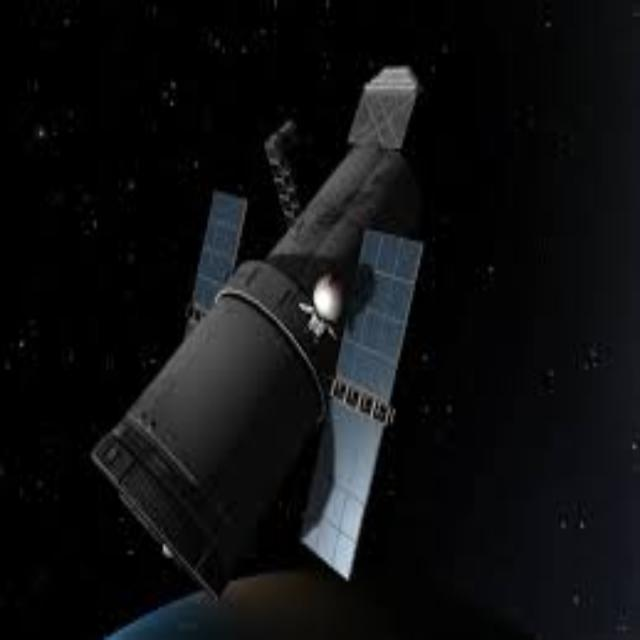medium_debris: (85, 55, 432, 606)
